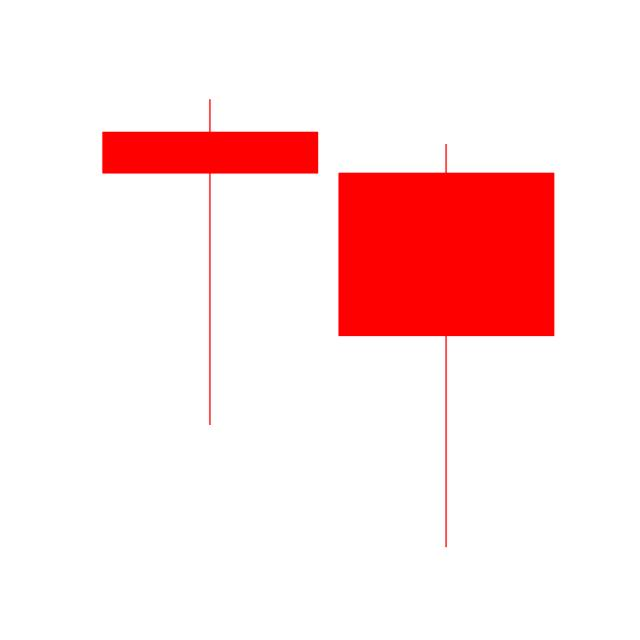Hanging Man: (327, 139, 565, 552), (102, 98, 319, 431)
